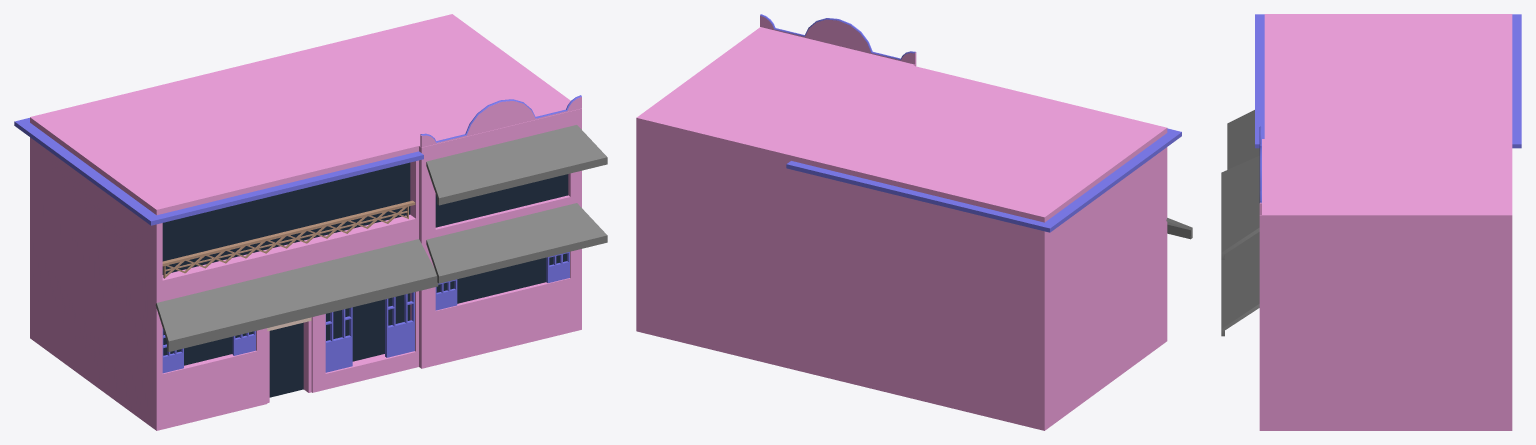
Rendered from MOR_TEP_COLOR.fbx.
3 renders of one model, left to right at view 1: azimuth 30°, elevation 25°; view 2: azimuth 150°, elevation 25°; view 3: azimuth 270°, elevation 25°, orthographic. The views are drawn at different scales.
Visible parts, largest first — view 1: MOR_TEP_COLOR_LOD0; view 2: MOR_TEP_COLOR_LOD0; view 3: MOR_TEP_COLOR_LOD0.
Part boxes in pixels (bbox=[...]): MOR_TEP_COLOR_LOD0: bbox=[14, 14, 607, 430]; MOR_TEP_COLOR_LOD0: bbox=[636, 14, 1192, 430]; MOR_TEP_COLOR_LOD0: bbox=[1221, 14, 1521, 430].
Size of what is drawn, in the model's own units: 840 by 454 by 510.
